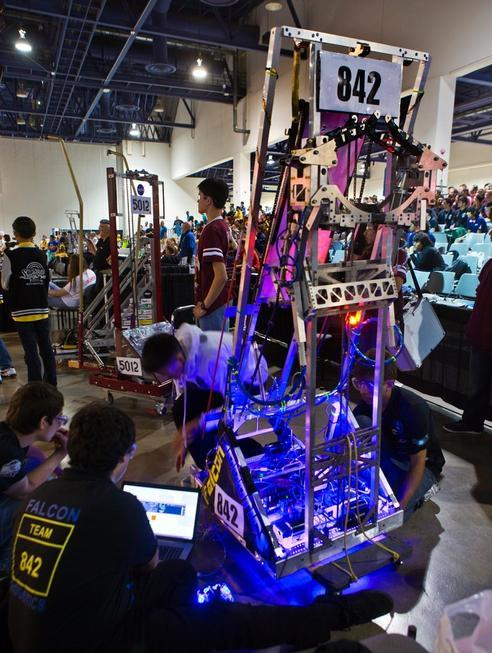robot: (167, 19, 449, 582), (87, 138, 199, 402)
